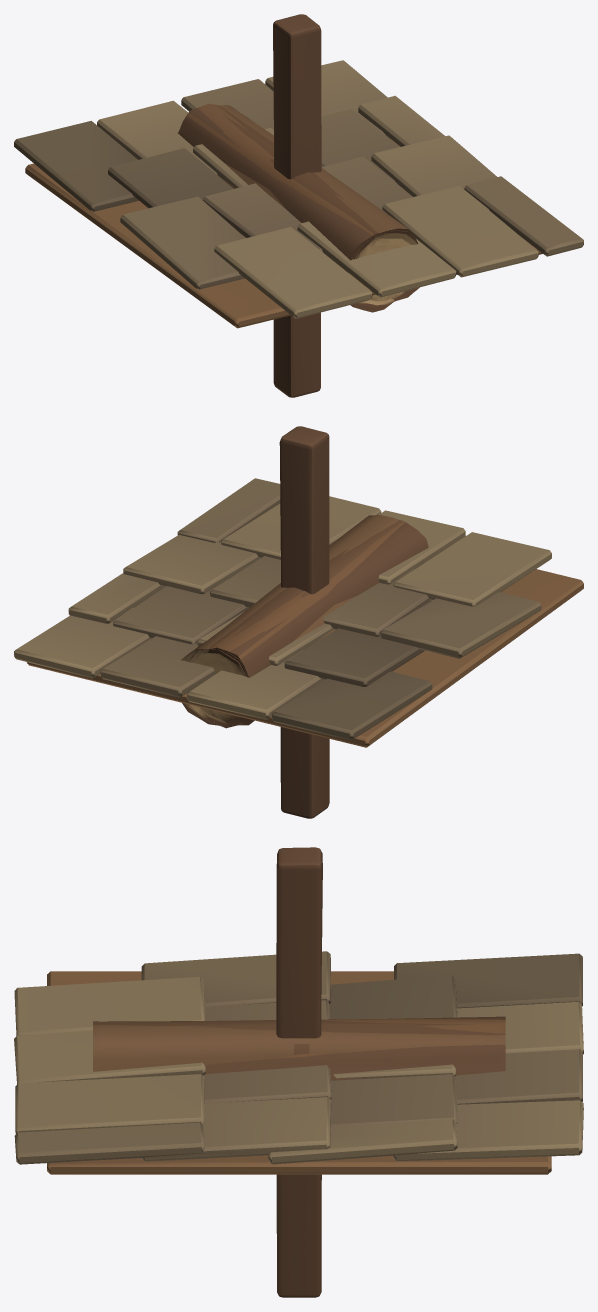
The model's file is pr_woodpile.glb.
3 views of the same model, one above another, from view 1: azimuth 30°, elevation 25°; view 2: azimuth 150°, elevation 25°; view 3: azimuth 270°, elevation 25° (orthographic). The views are drawn at different scales.
Parts seen in each view (by area): view 1: PR_woodpile__roof, PR_woodpile__post, PR_woodpile__log0, PR_woodpile__log1, PR_woodpile__log3, PR_woodpile__log2; view 2: PR_woodpile__roof, PR_woodpile__post, PR_woodpile__log0, PR_woodpile__log1, PR_woodpile__log3, PR_woodpile__log2; view 3: PR_woodpile__roof, PR_woodpile__post, PR_woodpile__log3, PR_woodpile__log0, PR_woodpile__log2, PR_woodpile__log1.
Part boxes in pixels (x1,y1,x2,y2): PR_woodpile__roof: [14, 60, 583, 328]; PR_woodpile__post: [273, 14, 321, 397]; PR_woodpile__log0: [178, 105, 415, 312]; PR_woodpile__log1: [187, 103, 416, 310]; PR_woodpile__log3: [217, 105, 418, 305]; PR_woodpile__log2: [217, 105, 419, 307]; PR_woodpile__roof: [14, 478, 583, 747]; PR_woodpile__post: [279, 426, 329, 818]; PR_woodpile__log0: [181, 522, 428, 728]; PR_woodpile__log1: [184, 521, 405, 727]; PR_woodpile__log3: [182, 515, 398, 727]; PR_woodpile__log2: [182, 520, 403, 727]; PR_woodpile__roof: [14, 951, 583, 1174]; PR_woodpile__post: [276, 847, 322, 1297]; PR_woodpile__log3: [93, 1024, 505, 1071]; PR_woodpile__log0: [93, 1016, 505, 1080]; PR_woodpile__log2: [93, 1019, 505, 1054]; PR_woodpile__log1: [93, 1018, 505, 1058].
Size of the model in its own units: 1.01 by 1.05 by 1.24.
